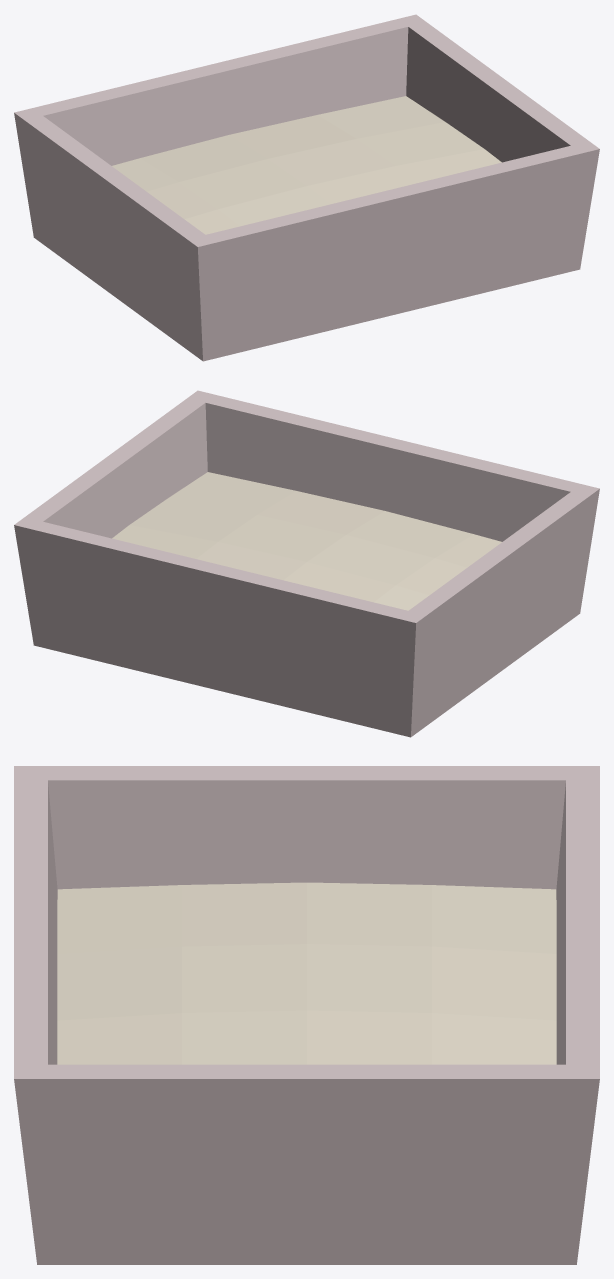
The model's file is SM_PawHome_LitterBox.fbx.
The picture shows the model from 3 angles, top to bottom: view 1: azimuth 30°, elevation 25°; view 2: azimuth 150°, elevation 25°; view 3: azimuth 270°, elevation 25°; orthographic projection. The views are drawn at different scales.
Parts seen in each view (by area): view 1: SM_PawHome_LitterBox; view 2: SM_PawHome_LitterBox; view 3: SM_PawHome_LitterBox.
Boxes of the visible parts, bbox=[...] form: SM_PawHome_LitterBox: bbox=[14, 14, 599, 361]; SM_PawHome_LitterBox: bbox=[14, 390, 599, 737]; SM_PawHome_LitterBox: bbox=[14, 766, 599, 1264].
Bounding box in the file's own units: 48 × 38 × 14.
